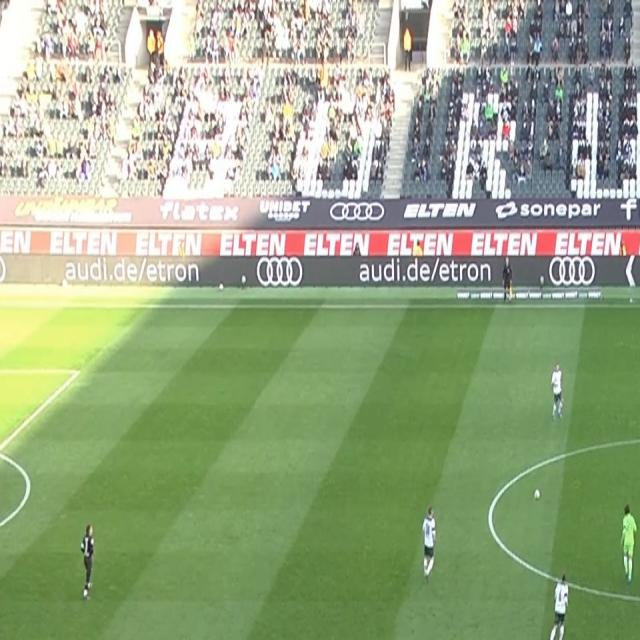ball: (533, 488, 541, 501)
